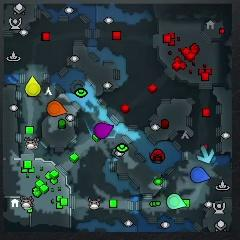p1: (191, 166, 211, 182)
p2: (168, 193, 186, 209)
p3: (95, 122, 113, 139)
p4: (25, 76, 40, 97)
p5: (47, 101, 67, 116)
x3: (198, 146, 213, 164)
